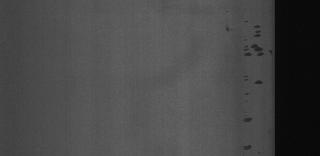oil spot: (242, 41, 270, 59), (242, 74, 254, 104), (246, 20, 262, 38), (242, 143, 255, 155), (242, 112, 254, 124), (223, 22, 237, 32), (252, 80, 264, 88)
